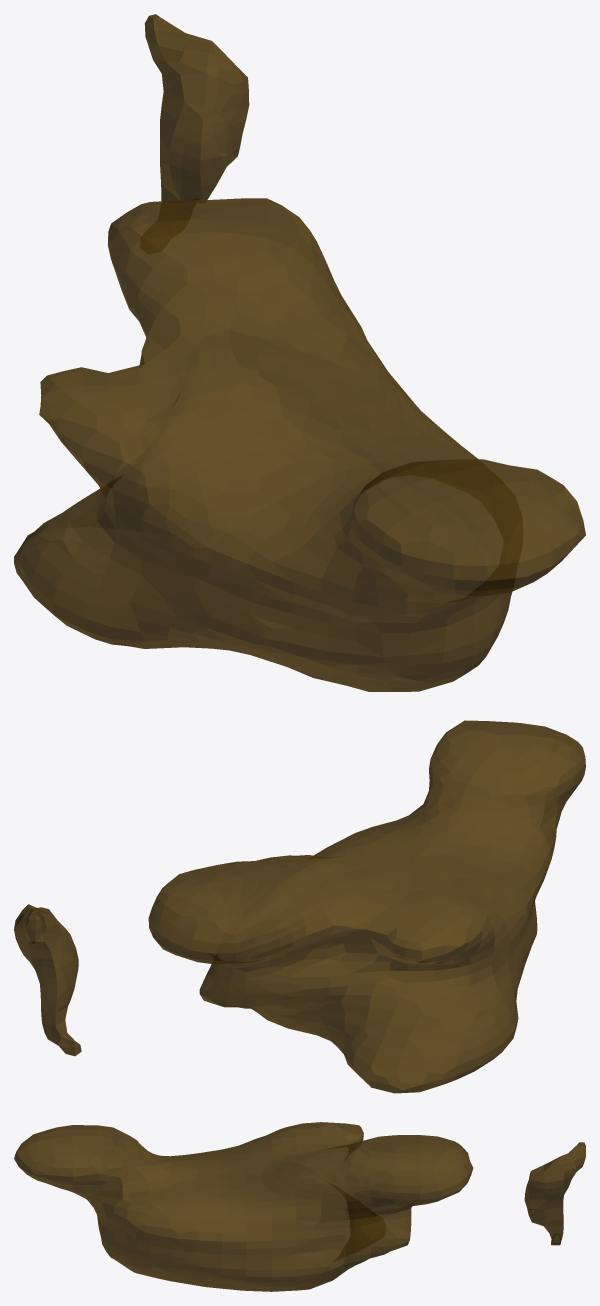
The model's file is AngelsDust4.glb.
3 renders of one model, top to bottom at view 1: azimuth 30°, elevation 25°; view 2: azimuth 150°, elevation 25°; view 3: azimuth 270°, elevation 25°, orthographic. The views are drawn at different scales.
Visible parts, largest first — view 1: AngelsDust4; view 2: AngelsDust4; view 3: AngelsDust4.
Boxes of the visible parts, x1,y1,x2,y2 form: AngelsDust4: (14, 14, 585, 691); AngelsDust4: (14, 720, 585, 1093); AngelsDust4: (14, 1122, 585, 1291).
Size of the model in its own units: 37.7 by 28.51 by 82.82.
